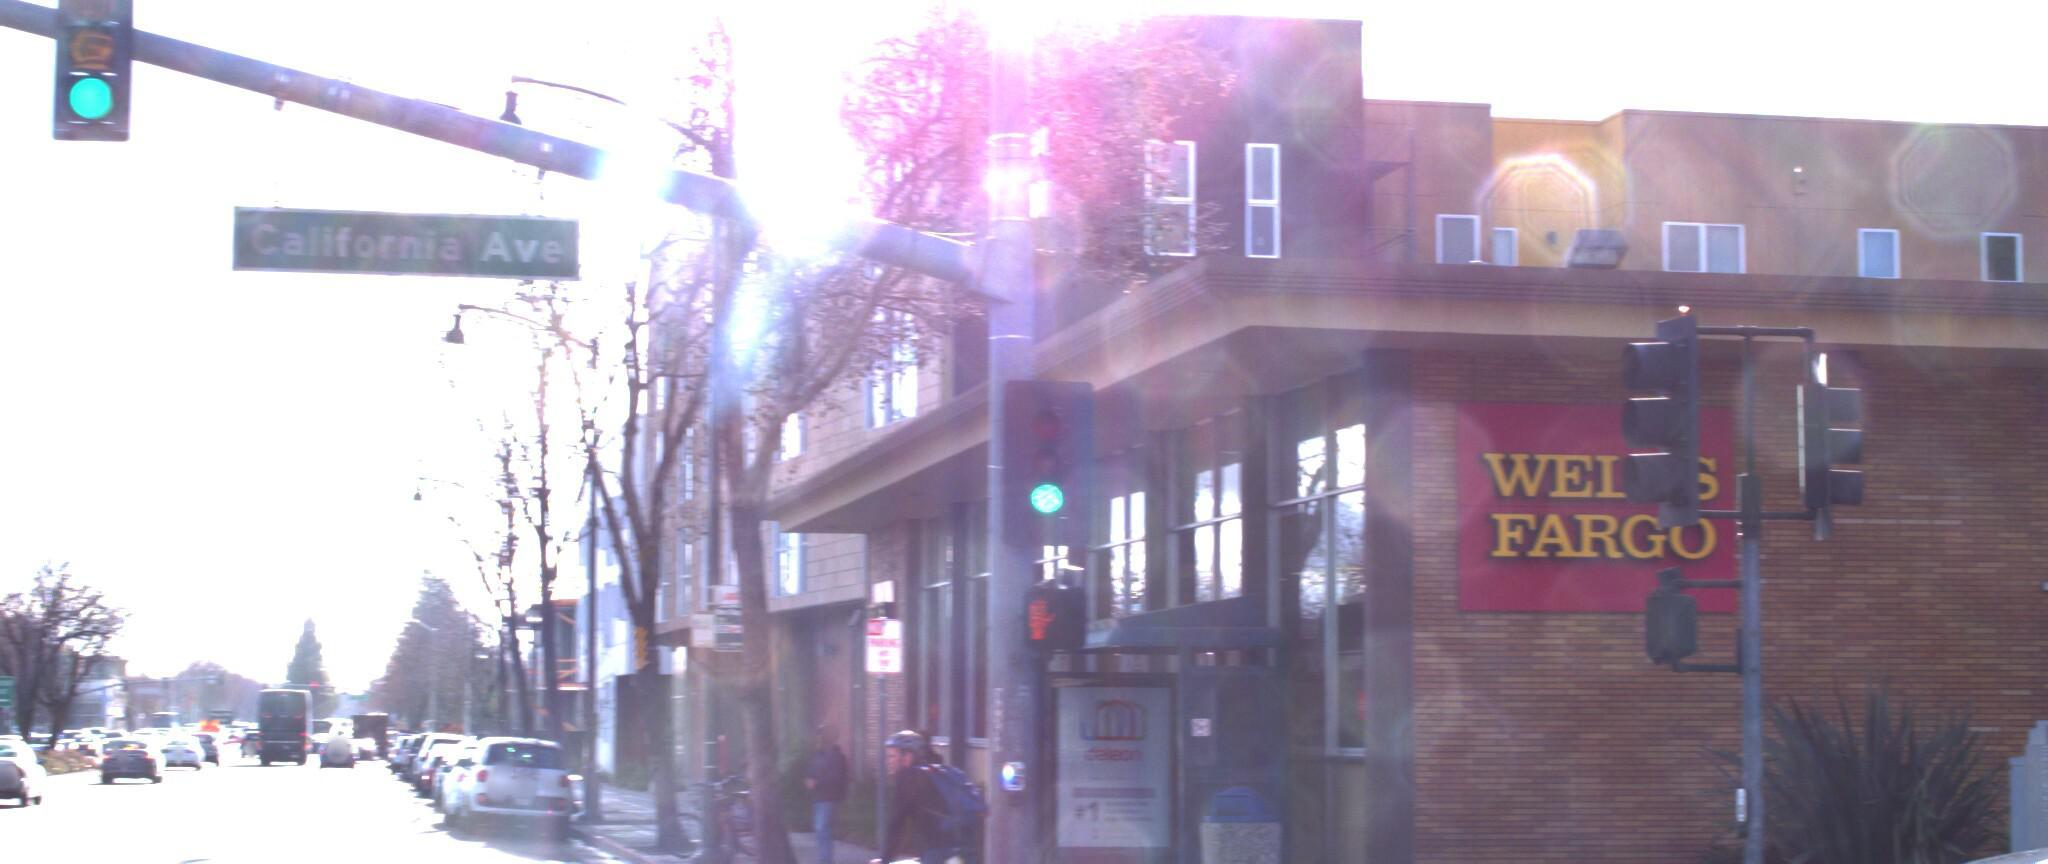bicycle: (814, 724, 1063, 864)
car: (1806, 714, 2048, 864), (472, 728, 600, 846)
